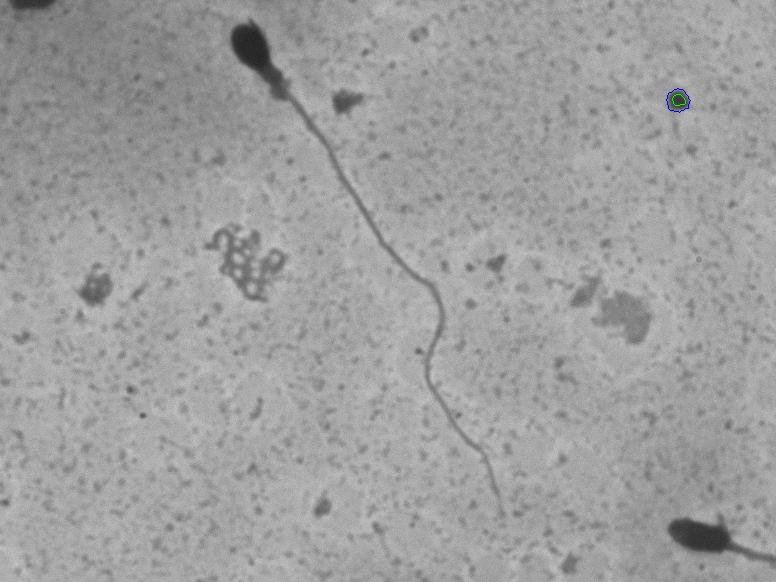Abnormal: (189, 18, 521, 524)
